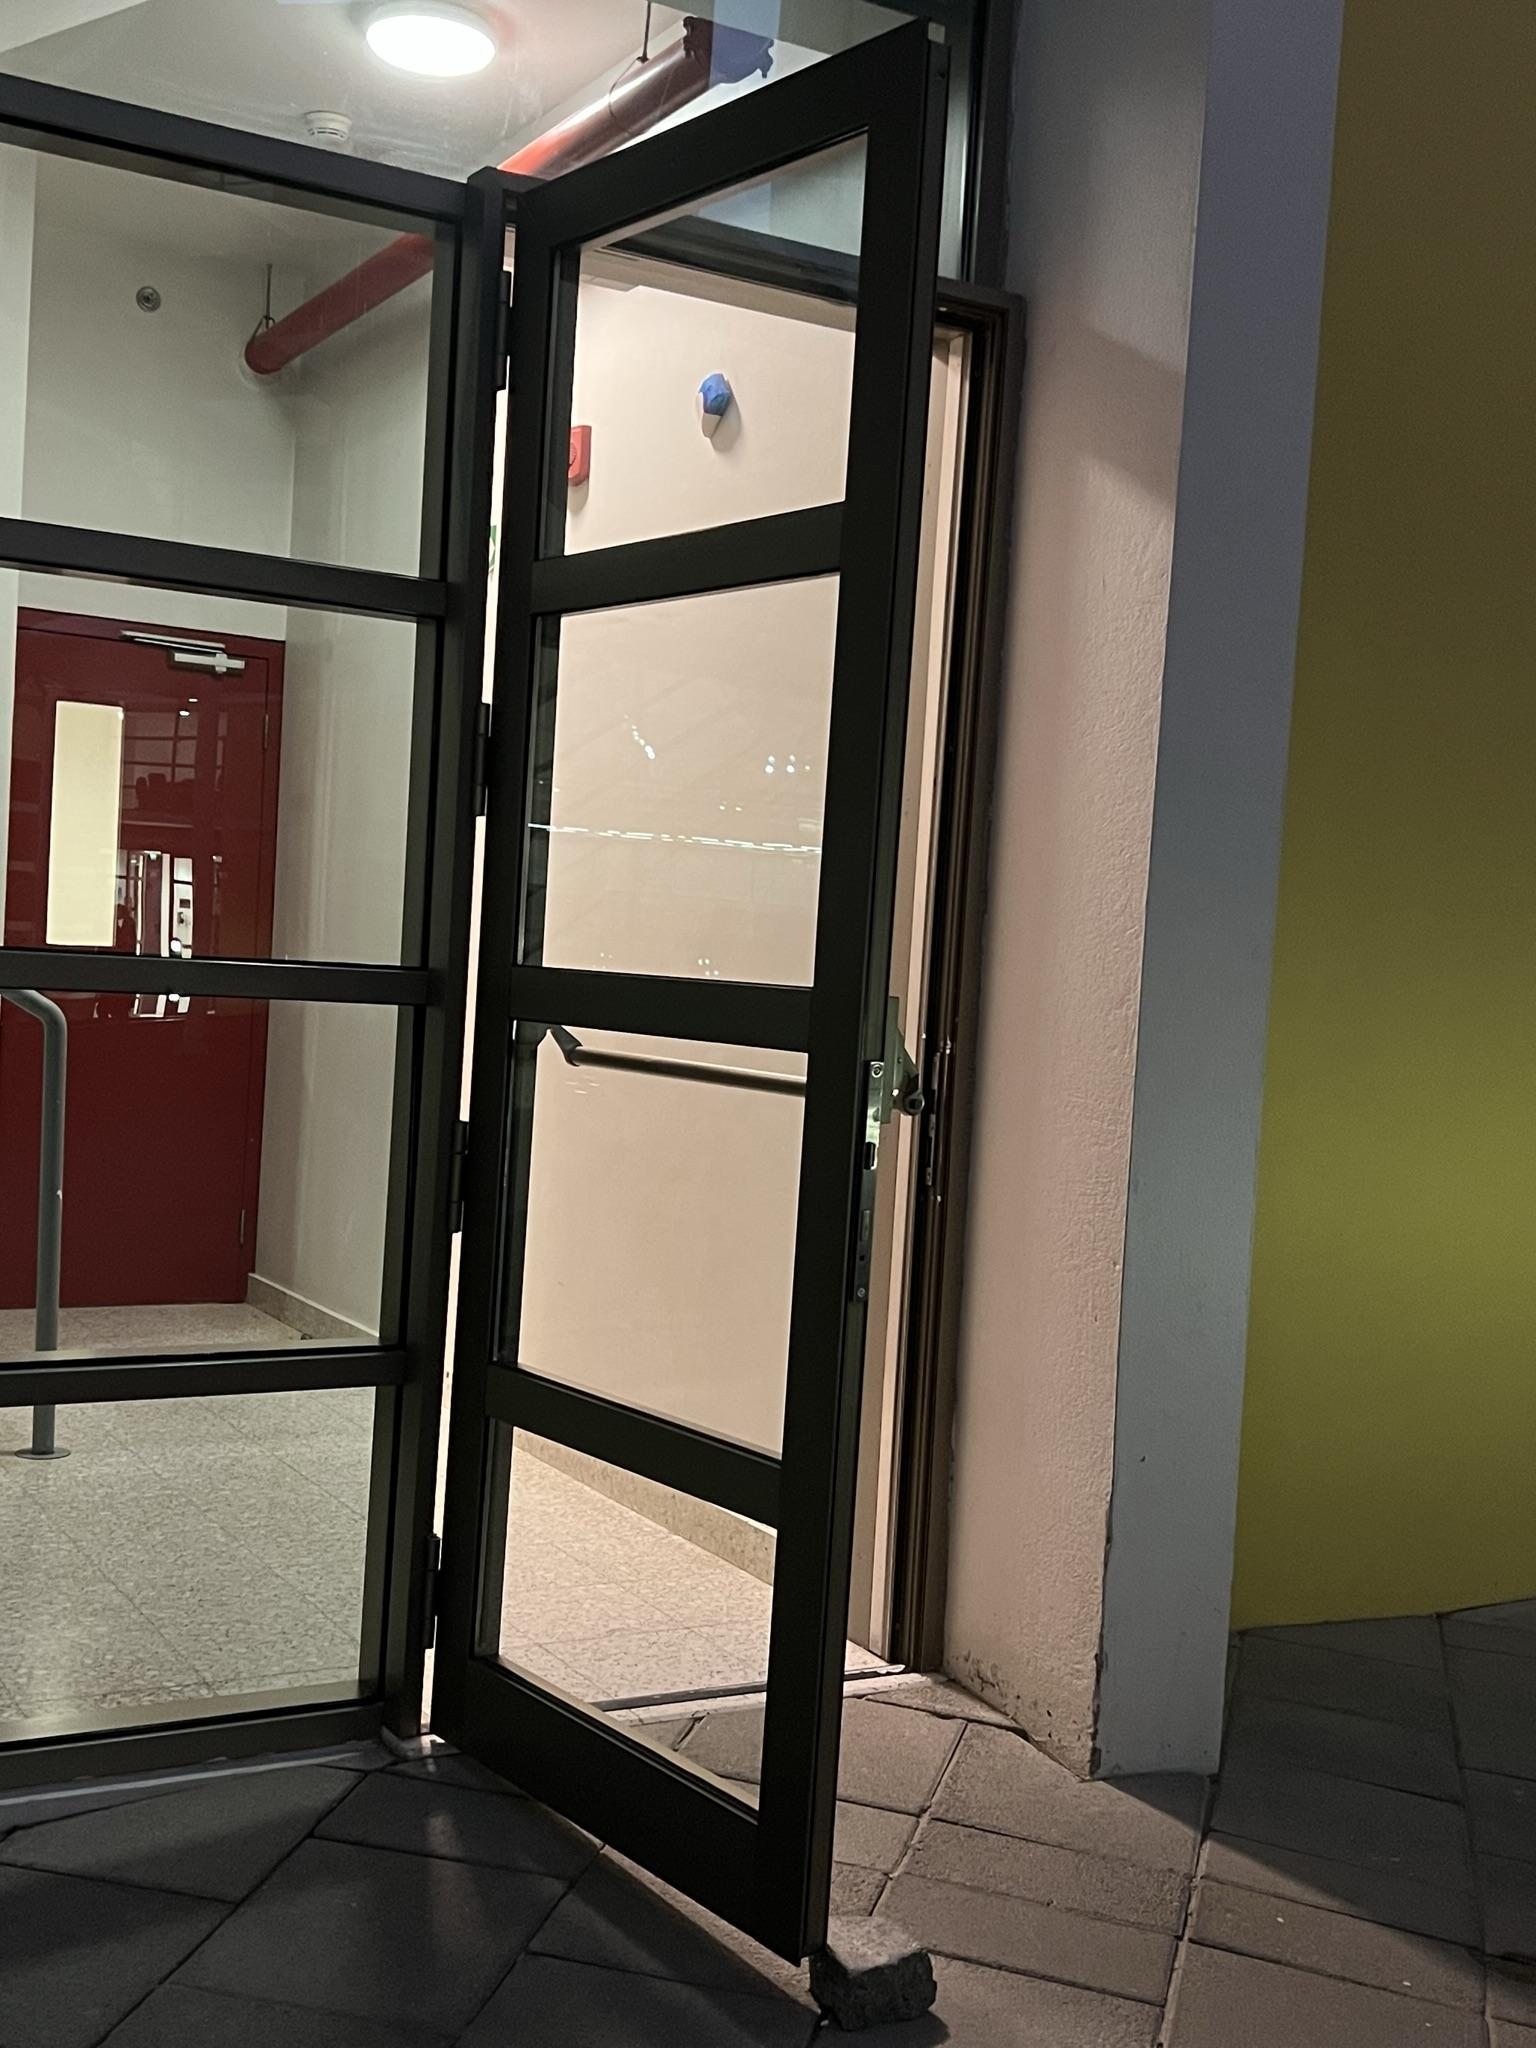door: (431, 21, 954, 1858)
